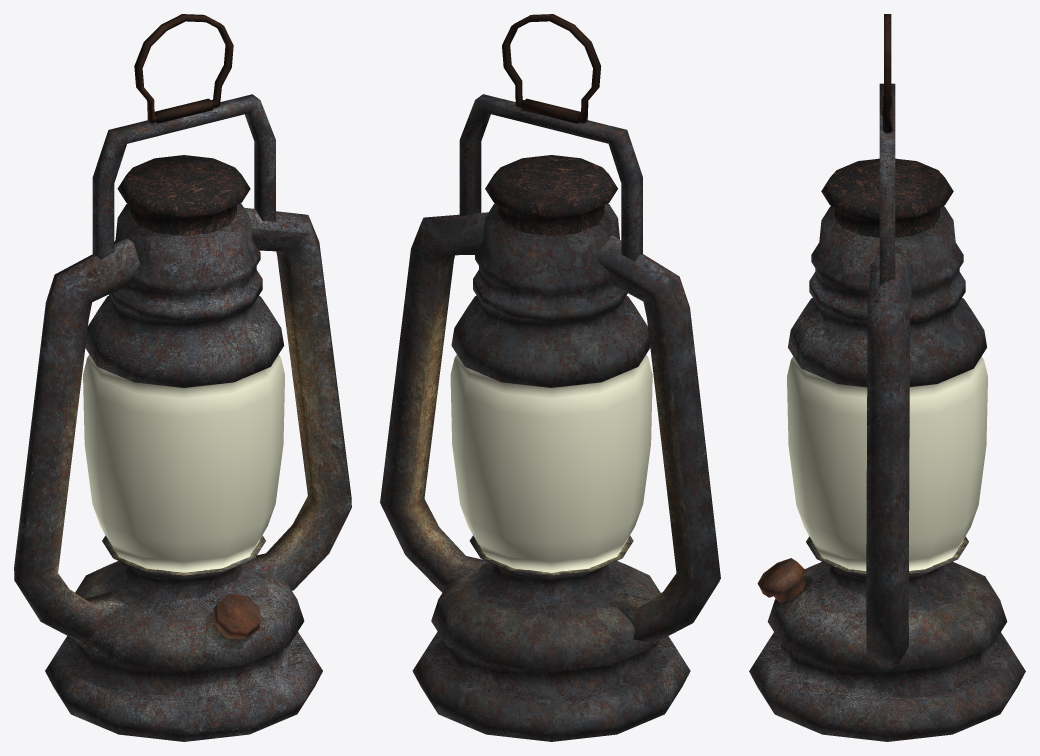
The model's file is lantern.dae.
3 views of the same model, side by side, from view 1: azimuth 30°, elevation 25°; view 2: azimuth 150°, elevation 25°; view 3: azimuth 270°, elevation 25° (orthographic).
Visible parts, largest first — view 1: LanternBaked; view 2: LanternBaked; view 3: LanternBaked.
Boxes of the visible parts, <box> form: LanternBaked: <box>14,14,351,741</box>; LanternBaked: <box>380,14,720,741</box>; LanternBaked: <box>749,14,1025,741</box>.
Size of the model in its own units: 3.47 by 2.48 by 6.59.
Materials: 2 (2 with a texture image).
